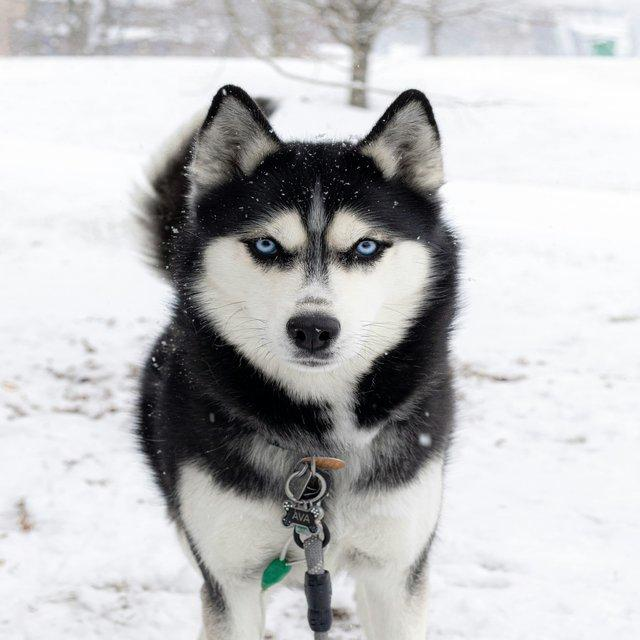husky: (129, 82, 462, 638)
